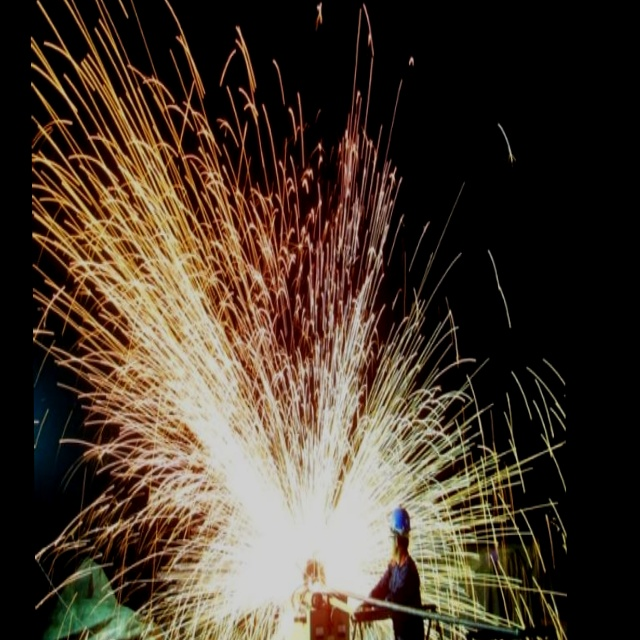Con_Casco: (389, 506, 410, 556)
